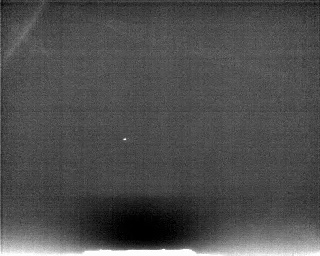BIRD: (121, 135, 129, 145)
